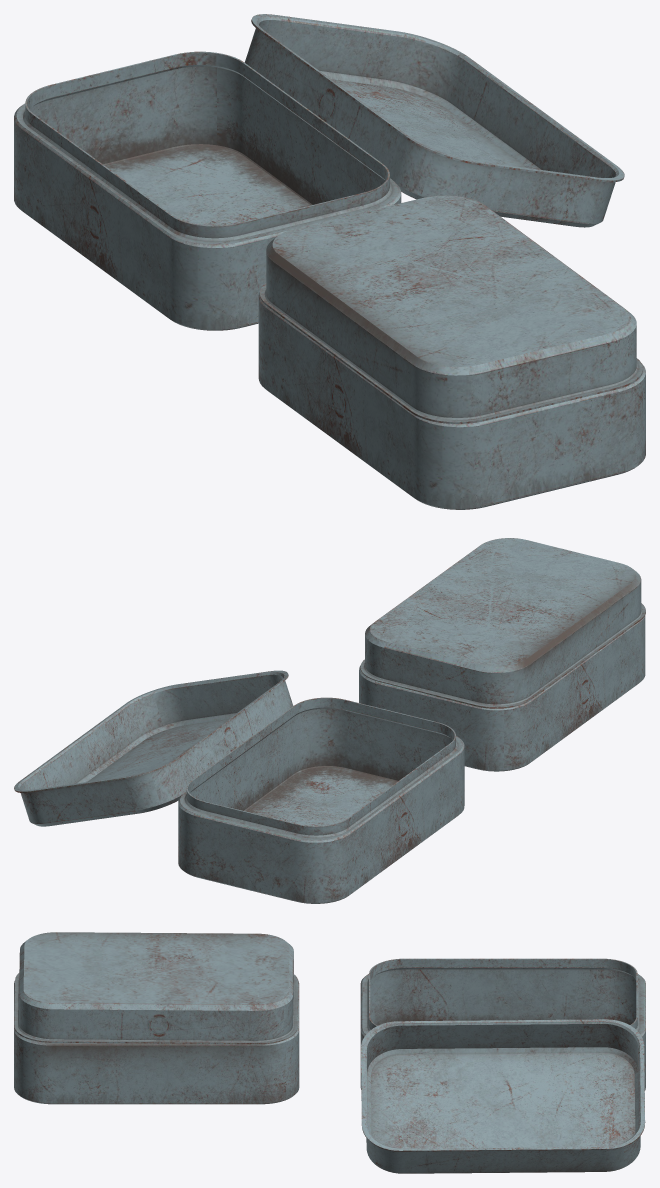
File: StorageBox.fbx
3 views of the same model, one above another, from view 1: azimuth 30°, elevation 25°; view 2: azimuth 150°, elevation 25°; view 3: azimuth 270°, elevation 25° (orthographic). The views are drawn at different scales.
Visible parts, largest first — view 1: Storage-Box-Opened, Storage Box-Closed; view 2: Storage-Box-Opened, Storage Box-Closed; view 3: Storage-Box-Opened, Storage Box-Closed.
Boxes of the visible parts, <box> form: Storage-Box-Opened: <box>14,14,624,330</box>; Storage Box-Closed: <box>258,195,645,509</box>; Storage-Box-Opened: <box>14,670,464,903</box>; Storage Box-Closed: <box>359,538,645,771</box>; Storage-Box-Opened: <box>360,958,645,1173</box>; Storage Box-Closed: <box>14,932,299,1104</box>.
Size of the model in its own units: 183 by 53.51 by 313.
